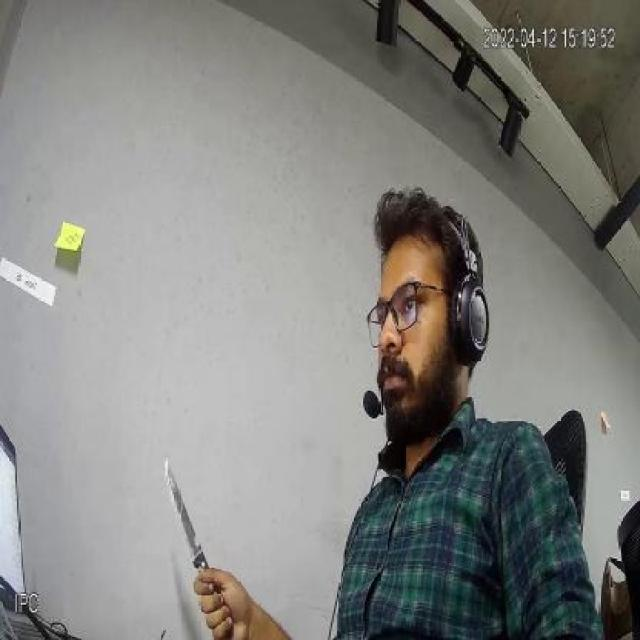knife: (165, 446, 212, 606)
